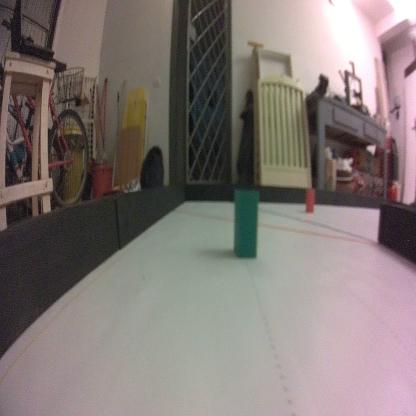green: (232, 185, 258, 258)
red: (304, 188, 316, 215)
